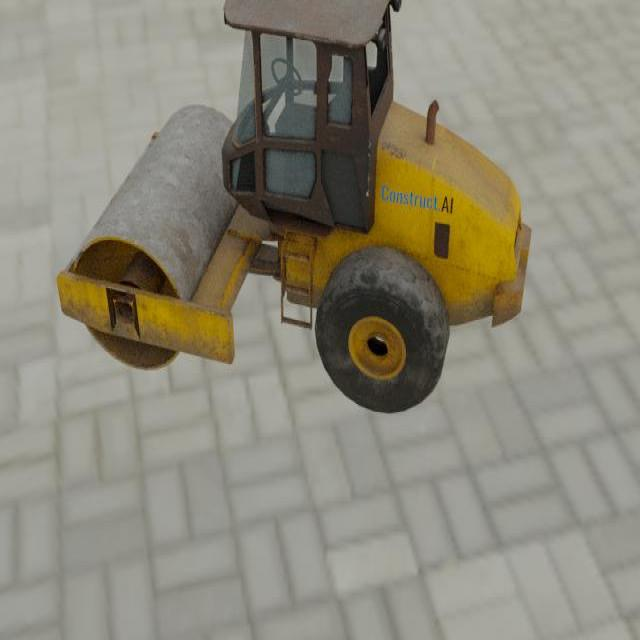Roller: (55, 0, 532, 415)
